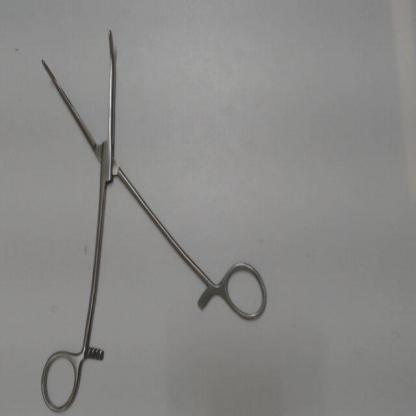Lahey Forceps: (32, 23, 273, 414)
